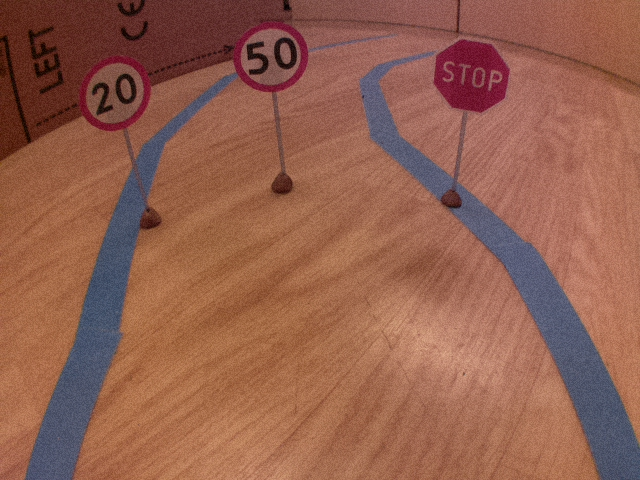ogr_20: (77, 50, 154, 137)
ogr_50: (229, 18, 310, 95)
stop: (430, 35, 513, 117)
